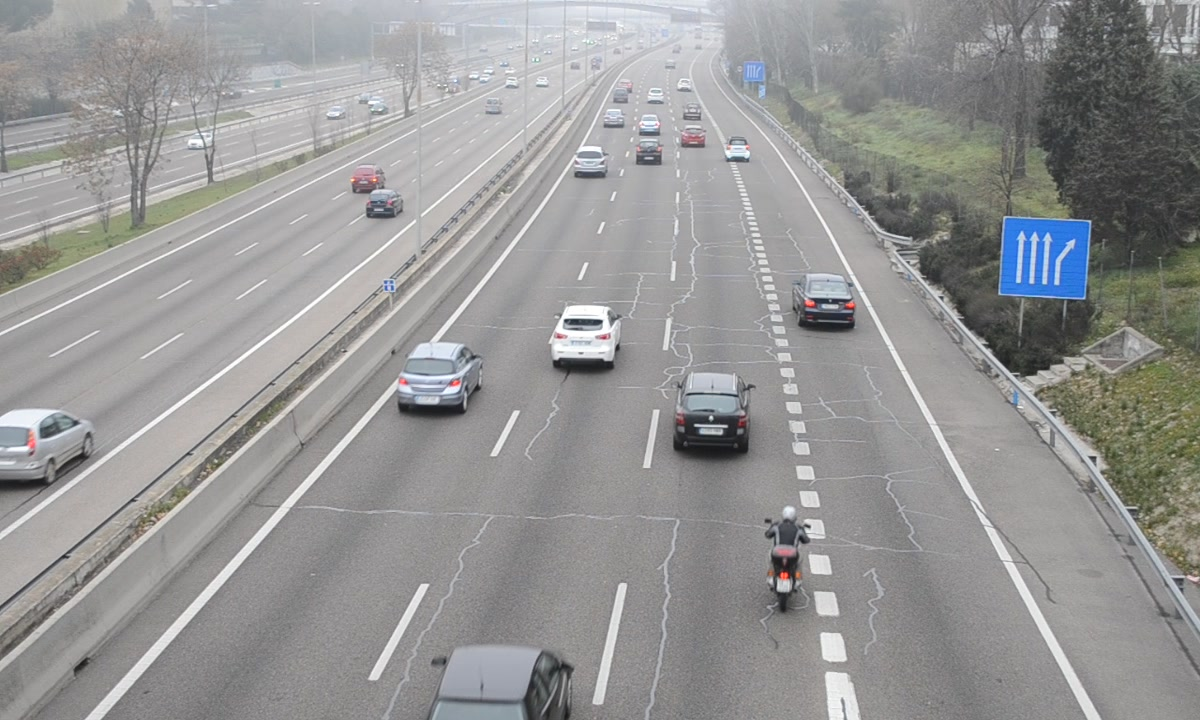car: (428, 645, 574, 718), (394, 341, 484, 414), (673, 372, 751, 455), (552, 304, 623, 365), (795, 271, 857, 331), (572, 144, 610, 178), (723, 134, 751, 162), (635, 137, 662, 165), (681, 123, 708, 148), (637, 113, 662, 137)
motorcycle: (761, 503, 813, 618)
